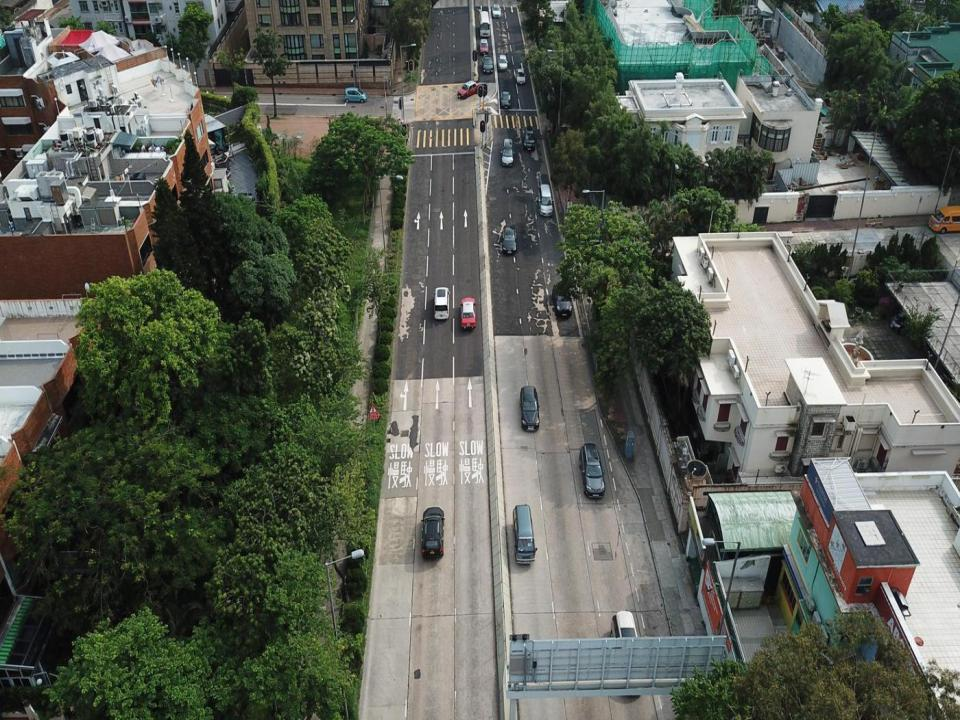bus: (611, 610, 641, 697), (479, 9, 491, 37)
car: (421, 507, 444, 558), (519, 385, 540, 433), (552, 282, 572, 318), (502, 223, 517, 255), (457, 81, 482, 100), (461, 298, 476, 329), (501, 139, 514, 167), (344, 86, 366, 102), (523, 125, 536, 151), (483, 55, 493, 73), (515, 67, 526, 83), (500, 90, 509, 108), (498, 53, 508, 69), (479, 39, 489, 53), (492, 3, 501, 18)
van: (578, 443, 605, 498), (512, 505, 536, 566), (433, 287, 449, 319), (538, 184, 552, 216)
